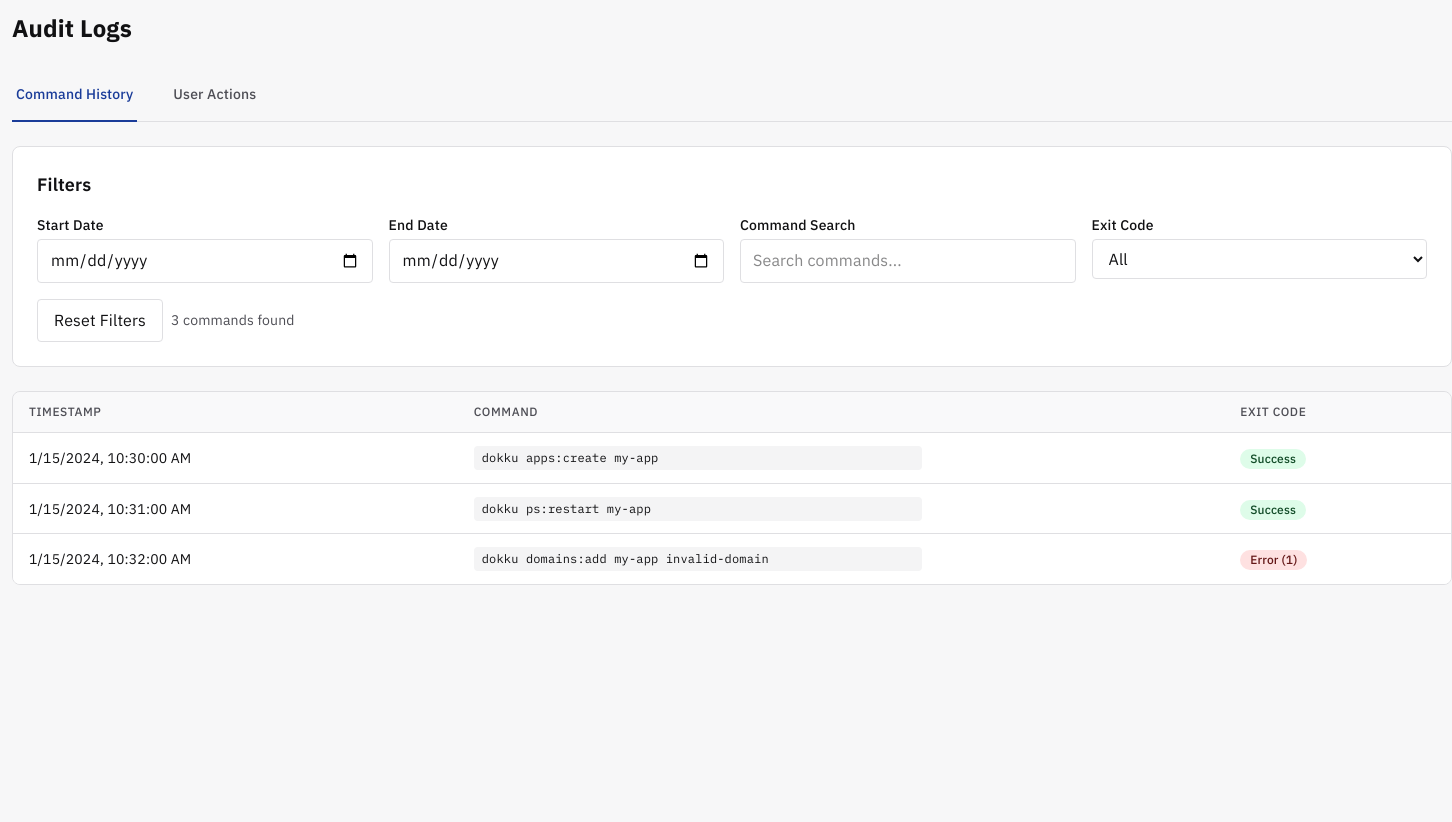
Test: Audit › should expand log details when row is clicked
Expected: the text "dokku apps:create my-app" is shown, top-left (474, 446), bottom-right (922, 470)
What coordinates should you click on to do the following:
click the text "dokku apps:create my-app"
I would click on:
 (732, 458)
Its box is top-left (13, 433), bottom-right (1451, 483).
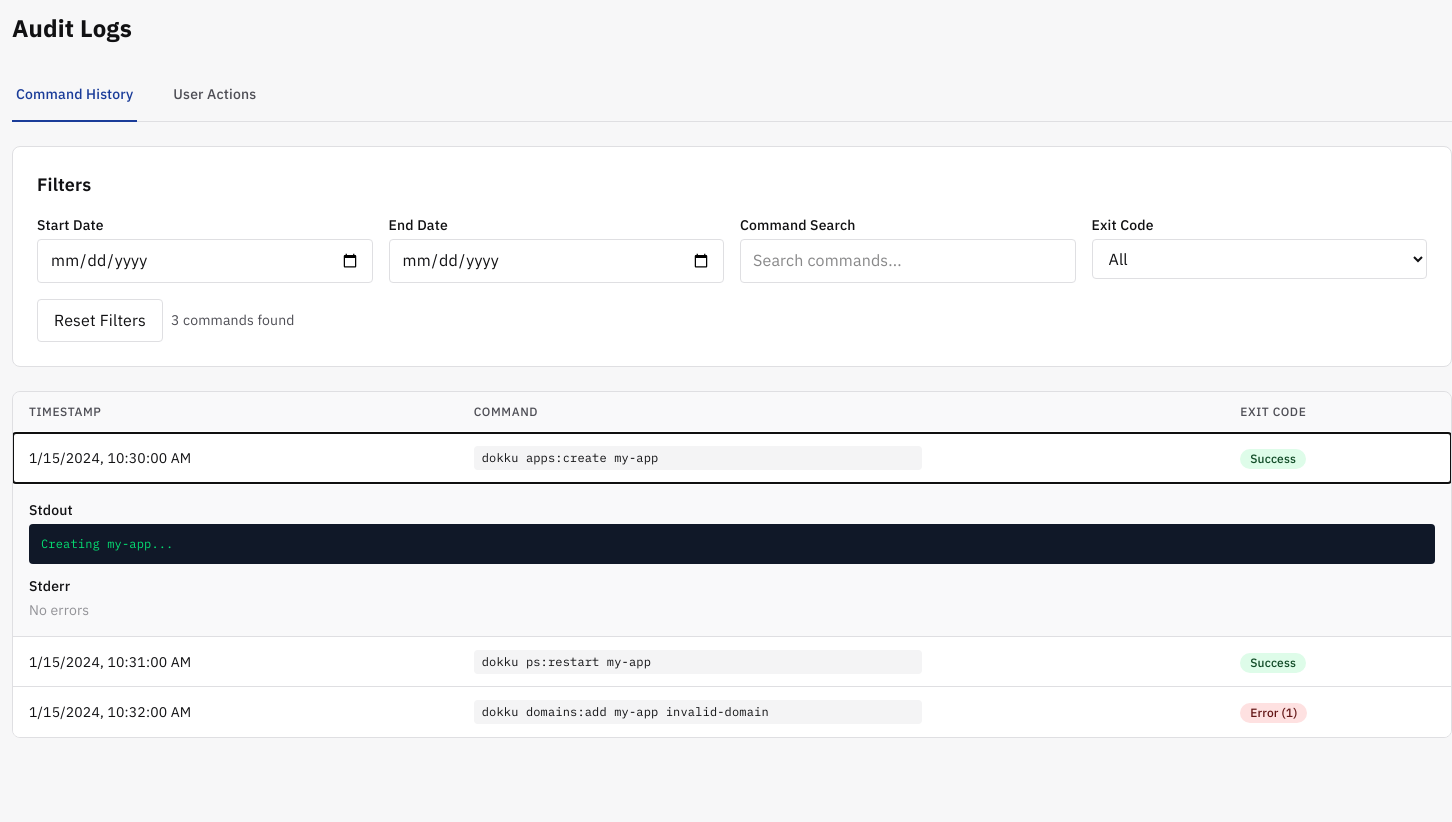
Expected: the heading "Stdout" is shown, top-left (29, 501), bottom-right (73, 519)
Expected: the heading "Stderr" is shown, top-left (29, 577), bottom-right (70, 595)
